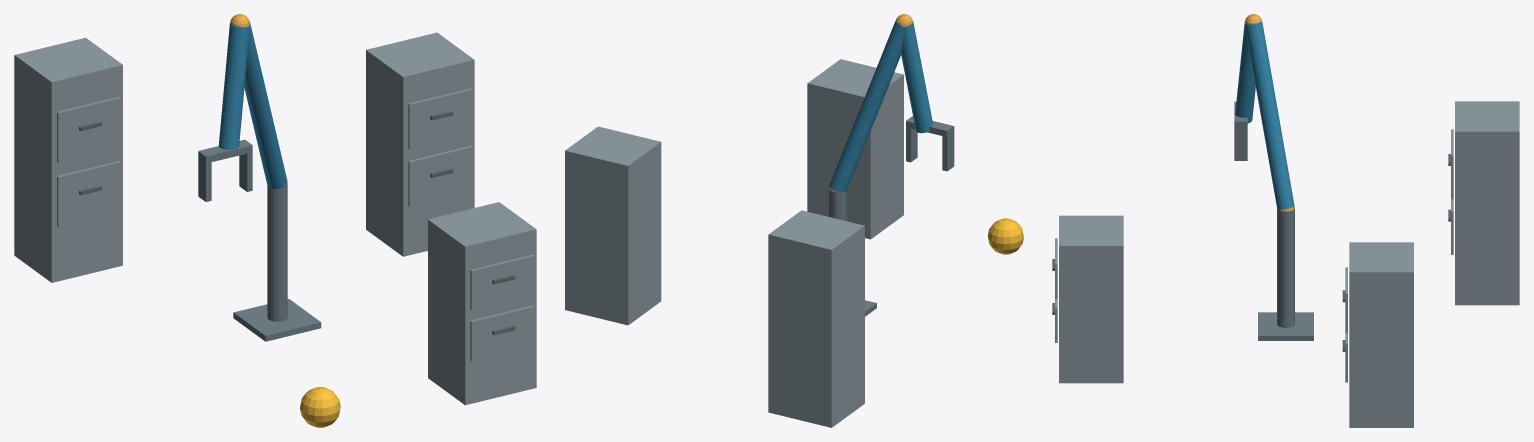
The picture shows the model from 3 angles, left to right: view 1: azimuth 30°, elevation 25°; view 2: azimuth 150°, elevation 25°; view 3: azimuth 270°, elevation 25°; orthographic projection. The views are drawn at different scales.
Parts seen in each view (by area): view 1: cabinet_3 body, cabinet_2 body, cabinet_1 body, cabinet_3 drawer front, cabinet_3 drawer front.001, cabinet_2 drawer front.001, cabinet_2 drawer front, moving link 1, fixed post, cabinet_1 drawer front.001, cabinet_1 drawer front, moving link 2 (+5 smaller); view 2: cabinet_3 body, cabinet_2 body, cabinet_1 body, moving link 1, moving link 2, ball ball_1, fixed post, gripper finger -1; view 3: cabinet_3 body, cabinet_2 body, cabinet_1 body, moving link 1, fixed post, pedestal, moving link 2, gripper finger 1.
Part boxes in pixels (<box>): cabinet_3 body: <box>14,37,122,282</box>; cabinet_2 body: <box>366,32,474,256</box>; cabinet_1 body: <box>428,202,536,405</box>; cabinet_3 drawer front: <box>57,161,121,227</box>; cabinet_3 drawer front.001: <box>57,96,121,163</box>; cabinet_2 drawer front.001: <box>408,88,472,149</box>; cabinet_2 drawer front: <box>408,146,472,206</box>; moving link 1: <box>244,22,287,189</box>; fixed post: <box>267,184,287,321</box>; cabinet_1 drawer front.001: <box>470,254,534,310</box>; cabinet_1 drawer front: <box>470,305,534,361</box>; moving link 2: <box>218,24,248,149</box>; cabinet_3 body: <box>768,210,864,427</box>; cabinet_2 body: <box>565,126,661,325</box>; cabinet_1 body: <box>807,59,903,239</box>; moving link 1: <box>829,20,904,192</box>; moving link 2: <box>901,21,932,133</box>; ball ball_1: <box>987,218,1023,254</box>; fixed post: <box>828,189,846,221</box>; gripper finger -1: <box>942,132,954,171</box>; cabinet_3 body: <box>1455,101,1519,305</box>; cabinet_2 body: <box>1349,242,1413,427</box>; cabinet_1 body: <box>1059,215,1123,383</box>; moving link 1: <box>1246,22,1294,209</box>; fixed post: <box>1277,208,1294,327</box>; pedestal: <box>1258,312,1313,340</box>; moving link 2: <box>1235,22,1255,123</box>; gripper finger 1: <box>1234,127,1247,160</box>.
Size of the model in its own units: 1.62 by 1.44 by 2.1.
